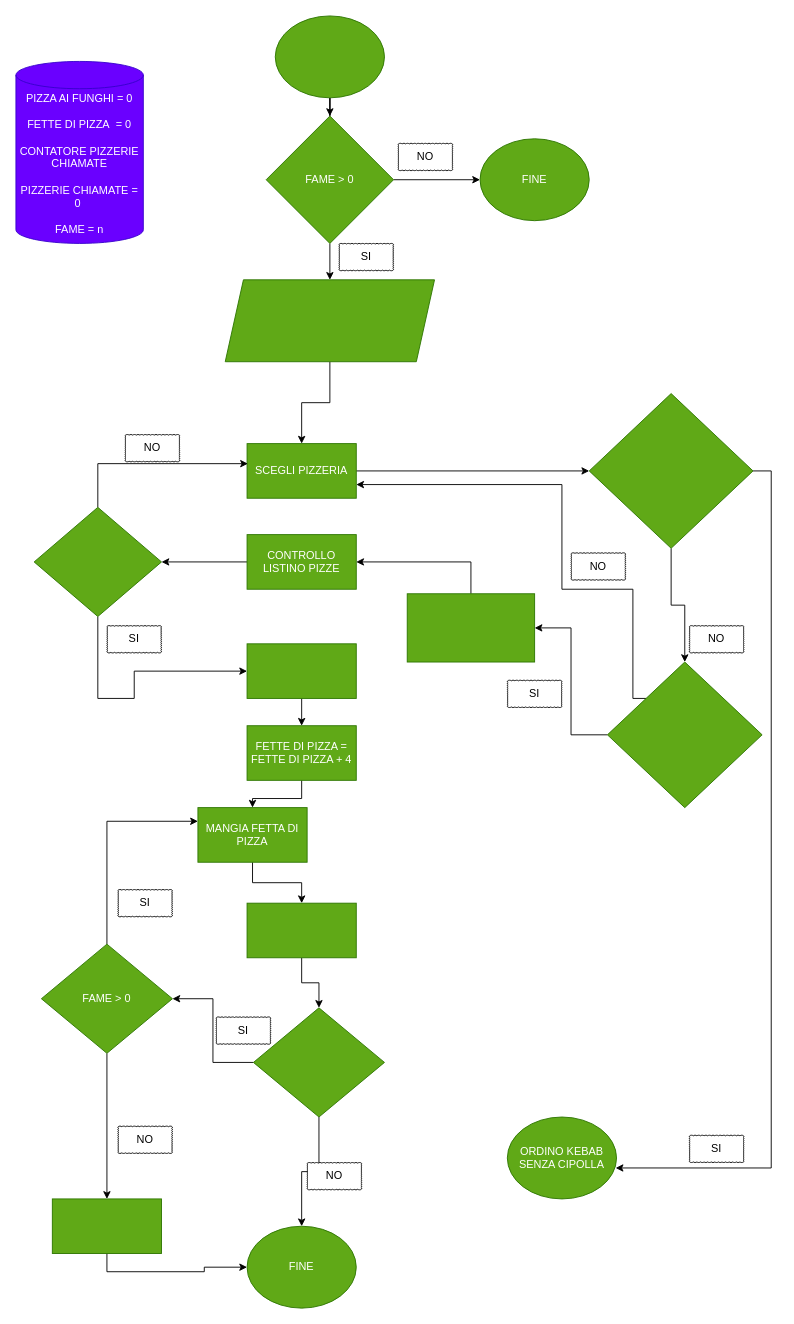
The diagram is 794 pixels wide and 1324 high, and some of its shapes have lost their labels. The shapes that lost their labels are listed below. From the top down, each one's box as (x1, y1, x2, y2) in pixels, then its label:
(274, 15, 384, 98): INIZIO
(224, 279, 435, 362): ELENCO PIZZERIE INTORNO A ME
(588, 393, 753, 548): CPC == LUNGHEZZA LISTA PIZZERIE INTORNO A ME
(33, 506, 162, 617): PIZZA AI FUNGHI == 1
(406, 593, 535, 662): CPC = CPC + 1 PIZZERIA CHIAMATA = 1
(246, 643, 356, 698): ORDINA PIZZA
(607, 661, 762, 808): PIZZERIA CHIAMATA? == 0
(246, 902, 356, 958): FETTE DI PIZZA = FETTE DI PIZZA - 1 & FAME = FAME - 1
(253, 1007, 384, 1117): FETTE DI PIZZA > 0
(51, 1198, 162, 1254): POSA IN FRIGO
